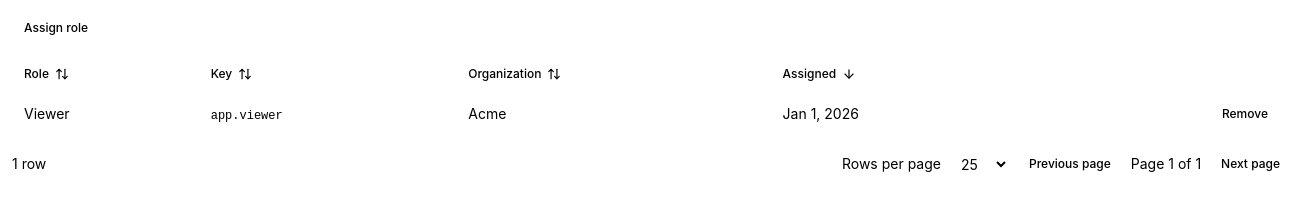
Test: UserRolesPanel › names the last-superadmin refusal instead of the generic remove error
Step 1. Click the button "Remove" → (1245, 114), box [1210, 98, 1280, 130]
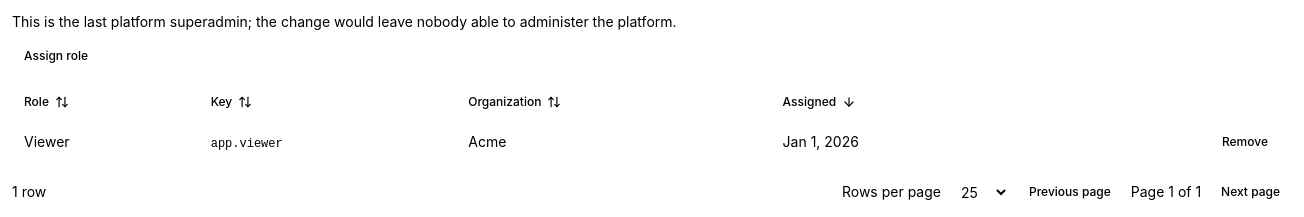
expect the text "last platform superadmin" is shown: met, box [12, 13, 677, 30]
